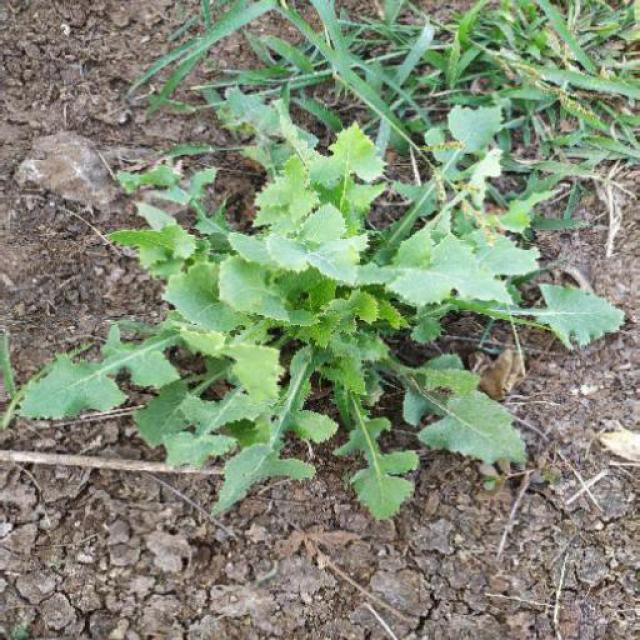weed: (34, 116, 625, 506)
